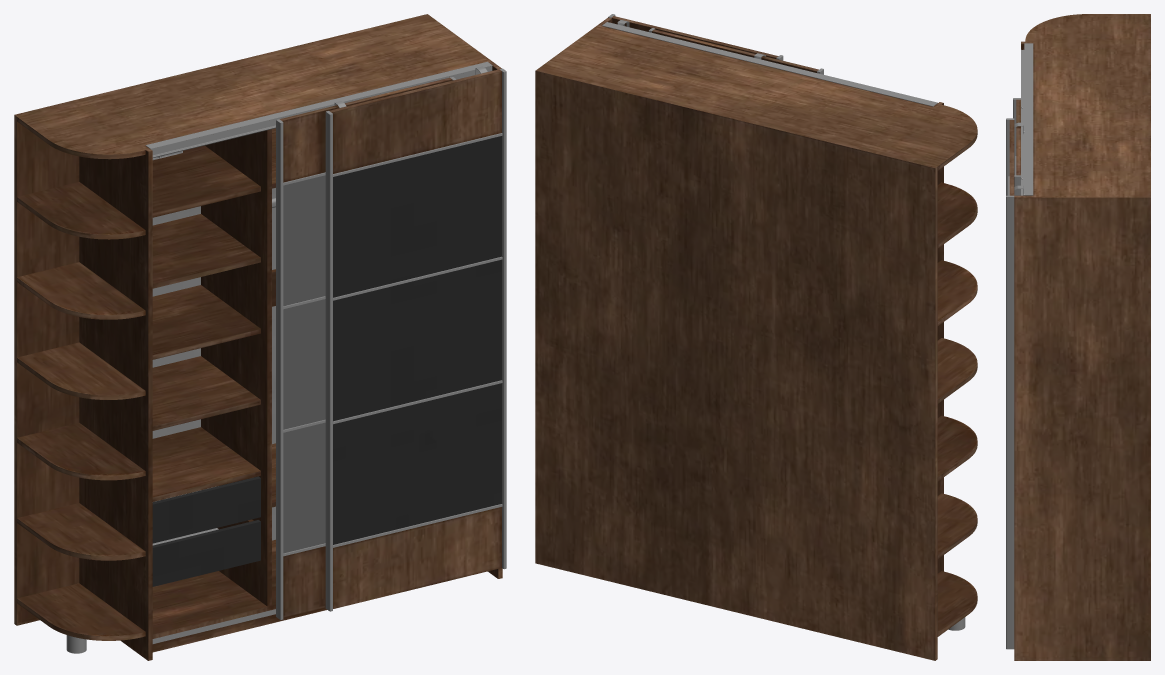
Rendered from Wooden_wardrobe.glb.
3 renders of one model, left to right at view 1: azimuth 30°, elevation 25°; view 2: azimuth 150°, elevation 25°; view 3: azimuth 270°, elevation 25°, orthographic. The views are drawn at different scales.
Parts seen in each view (by area): view 1: Wardrobe_Wardrobe Wood_Material_0, WardrobeDoor1_Wardrobe Black Plastic_Material_0, Wardrobe_Wardrobe Metal_Material_0, WardrobeDoor1_Wardrobe Mirror_Material_0, Wardrobe_Wardrobe White Plastic_Material_0; view 2: Wardrobe_Wardrobe Wood_Material_0, Wardrobe_Wardrobe Metal_Material_0; view 3: Wardrobe_Wardrobe Wood_Material_0, Wardrobe_Wardrobe Metal_Material_0.
Part boxes in pixels (x1,y1,x2,y2): Wardrobe_Wardrobe Wood_Material_0: (14, 14, 502, 660); WardrobeDoor1_Wardrobe Black Plastic_Material_0: (152, 136, 501, 586); Wardrobe_Wardrobe Metal_Material_0: (66, 61, 506, 653); WardrobeDoor1_Wardrobe Mirror_Material_0: (283, 175, 325, 553); Wardrobe_Wardrobe White Plastic_Material_0: (152, 151, 275, 545); Wardrobe_Wardrobe Wood_Material_0: (535, 16, 977, 660); Wardrobe_Wardrobe Metal_Material_0: (602, 14, 965, 630); Wardrobe_Wardrobe Wood_Material_0: (1009, 14, 1150, 660); Wardrobe_Wardrobe Metal_Material_0: (1006, 43, 1033, 649).
Bounding box in the file's own units: 1.89 × 2.23 × 0.6283.
Materials: 5 (3 with a texture image).
